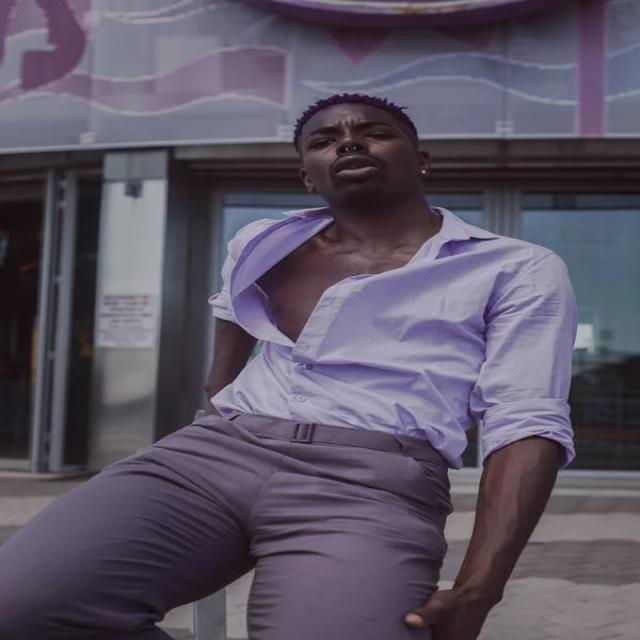Real human 2: (14, 88, 592, 640)
